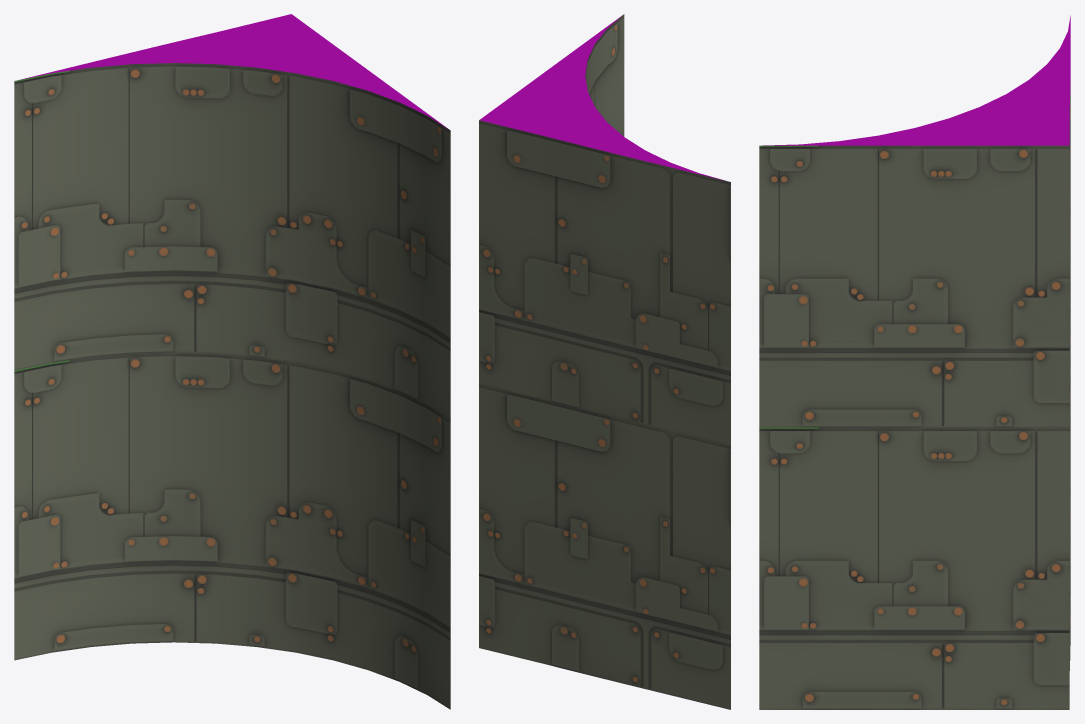
The model's file is Block_Curved_Concave_Top_Fill.fbx.
The picture shows the model from 3 angles, left to right: view 1: azimuth 30°, elevation 25°; view 2: azimuth 150°, elevation 25°; view 3: azimuth 270°, elevation 25°; orthographic projection. The views are drawn at different scales.
Visible parts, largest first — view 1: Block_Curved_Concave_Top_Fill, Block_Curved_Concave_Fill; view 2: Block_Curved_Concave_Top_Fill, Block_Curved_Concave_Fill; view 3: Block_Curved_Concave_Top_Fill, Block_Curved_Concave_Fill.
Boxes of the visible parts, x1=… form: Block_Curved_Concave_Top_Fill: x1=14, y1=14, x2=450, y2=419; Block_Curved_Concave_Fill: x1=14, y1=352, x2=450, y2=709; Block_Curved_Concave_Top_Fill: x1=479, y1=14, x2=730, y2=445; Block_Curved_Concave_Fill: x1=479, y1=384, x2=730, y2=709; Block_Curved_Concave_Top_Fill: x1=759, y1=15, x2=1070, y2=427; Block_Curved_Concave_Fill: x1=759, y1=364, x2=1070, y2=709.
Bounding box in the file's own units: 100 × 200 × 100.
